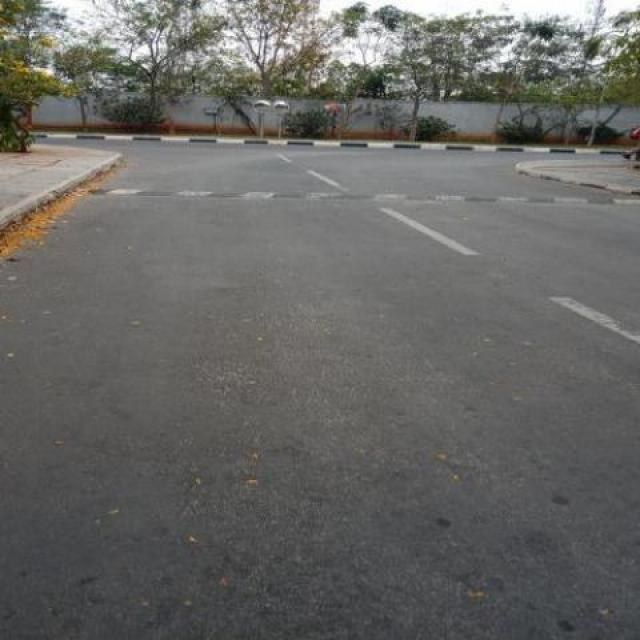Speed Bump: (81, 187, 638, 206)
